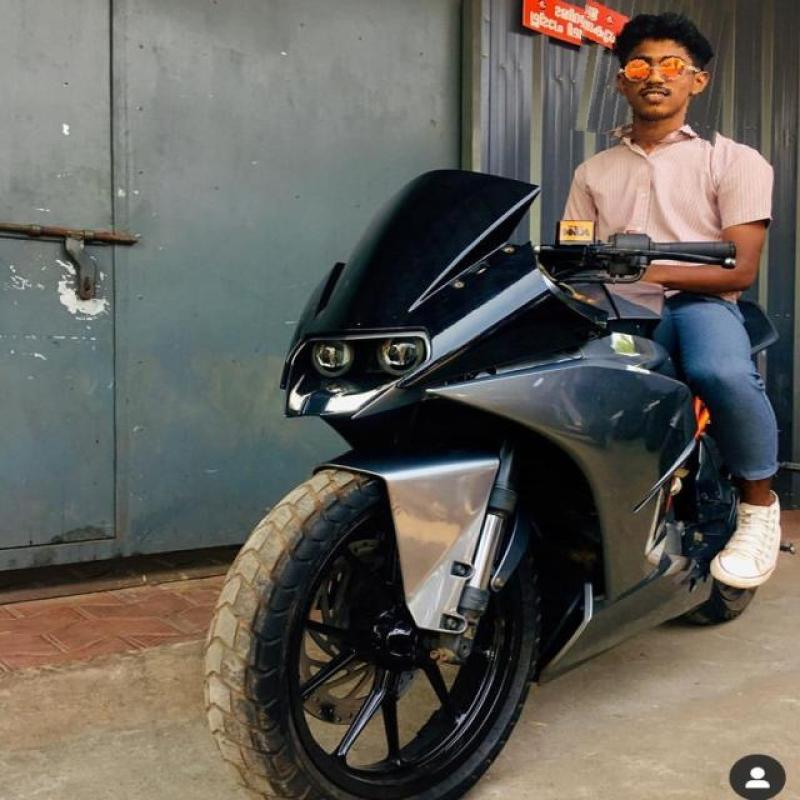nohelmet: (572, 0, 729, 144)
